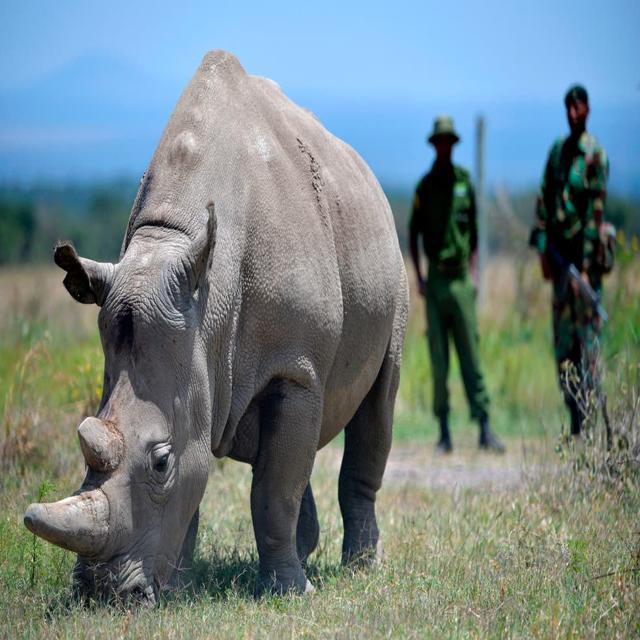ranger: (362, 82, 549, 477), (495, 58, 639, 483)
rhino: (1, 35, 432, 637)
